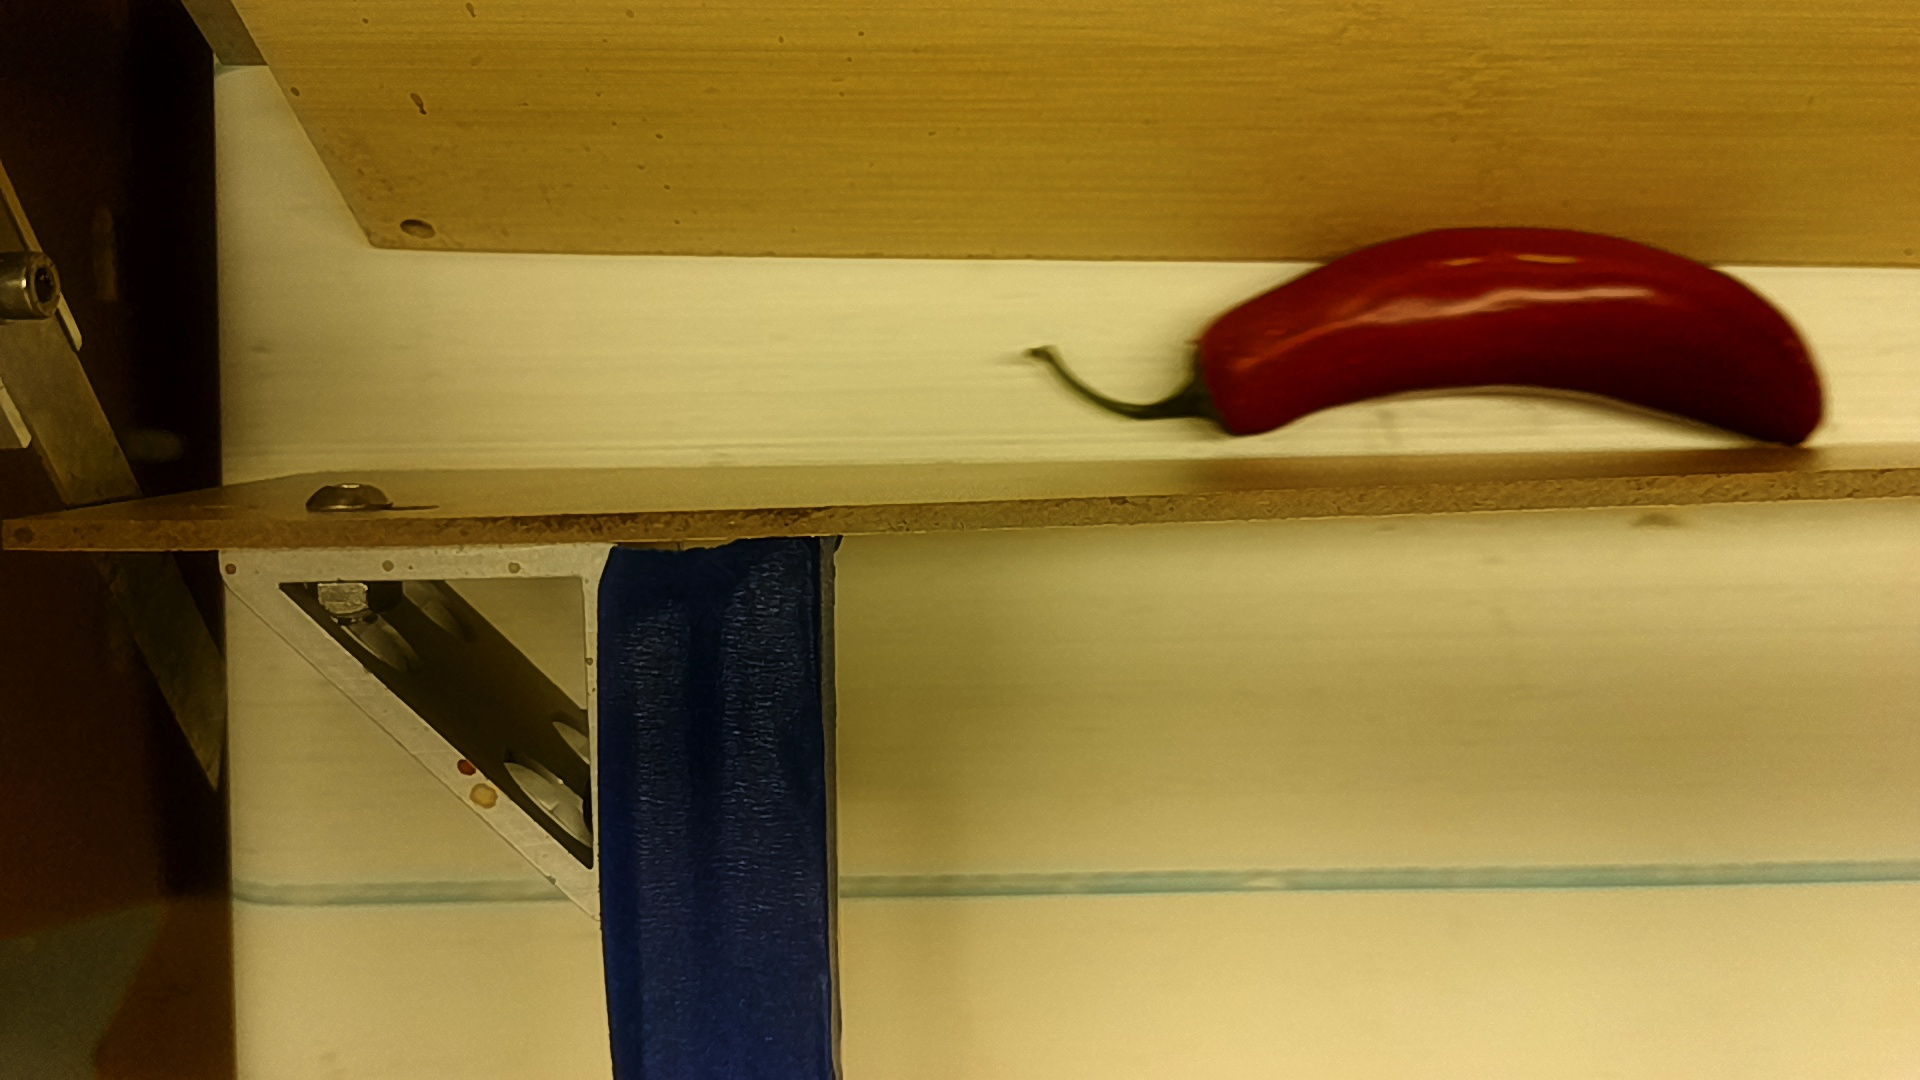Cut Point: (1183, 302, 1244, 444)
